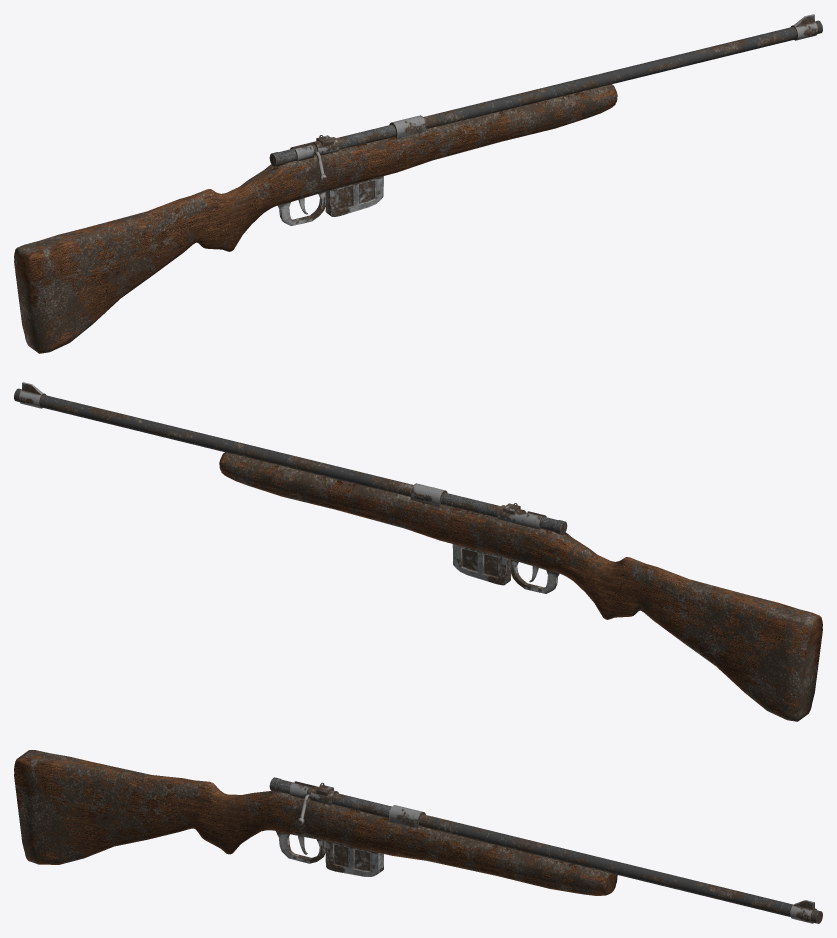
Rendered from hunting_rifle_v0.3.fbx.
3 views of the same model, one above another, from view 1: azimuth 30°, elevation 25°; view 2: azimuth 150°, elevation 25°; view 3: azimuth 330°, elevation 25° (orthographic).
Parts seen in each view (by area): view 1: main, barrel, magazine, Cylinder; view 2: main, barrel, magazine, Cylinder; view 3: main, barrel, magazine, Cylinder, skoba, detail1, Cylinder.002, mushka.
Part boxes in pixels (x1,y1,x2,y2): main: (14,84,617,353); barrel: (423,20,822,128); magazine: (325,176,383,216); Cylinder: (269,124,396,166); main: (219,452,822,721); barrel: (14,388,413,496); magazine: (452,544,511,585); Cylinder: (440,492,567,534); main: (14,750,617,895); barrel: (419,814,822,923); magazine: (325,841,383,876); Cylinder: (269,777,391,818); skoba: (276,831,325,863); detail1: (389,805,425,828); Cylinder.002: (289,781,338,805); mushka: (790,900,816,923).
Size of the model in its own units: 458 by 80.42 by 20.88.
Materials: 11 (11 with a texture image).
